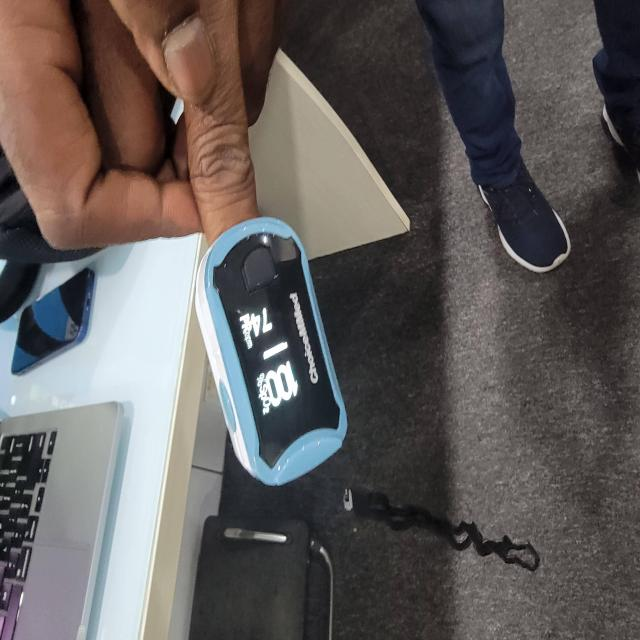spo2: (195, 217, 349, 489)
